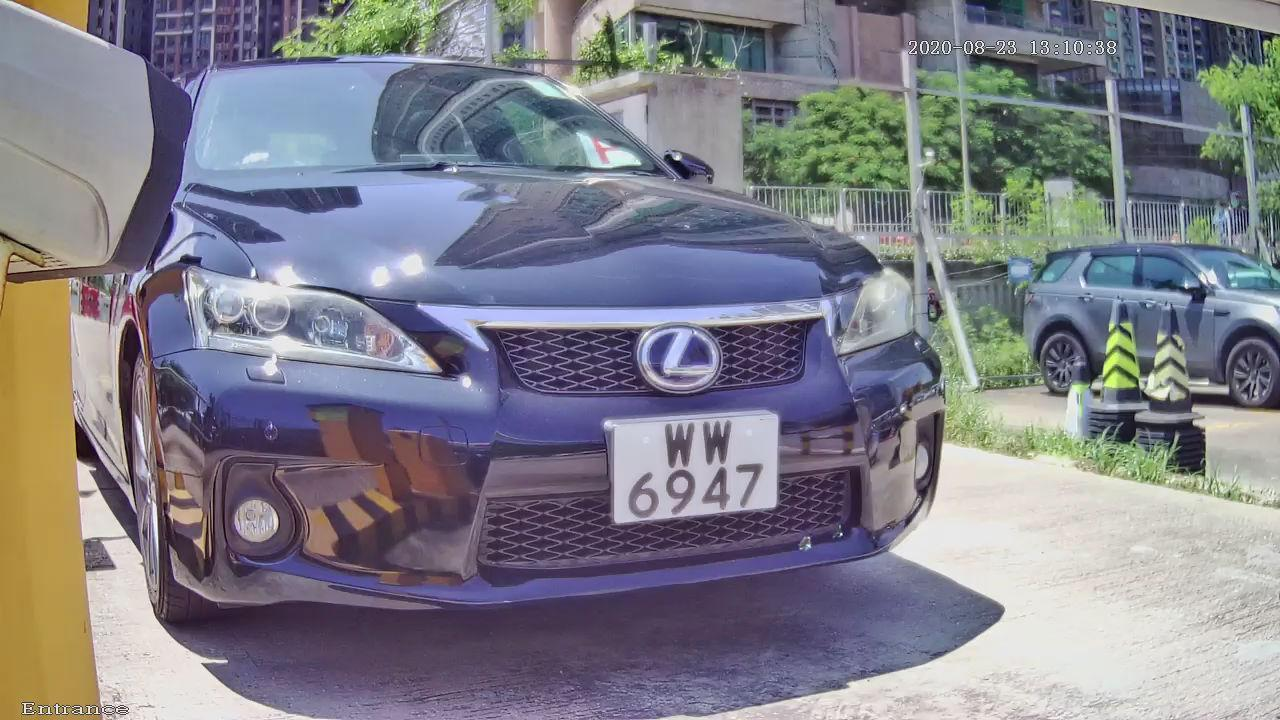Car: (46, 10, 983, 708)
License Plate: (583, 402, 789, 541)
